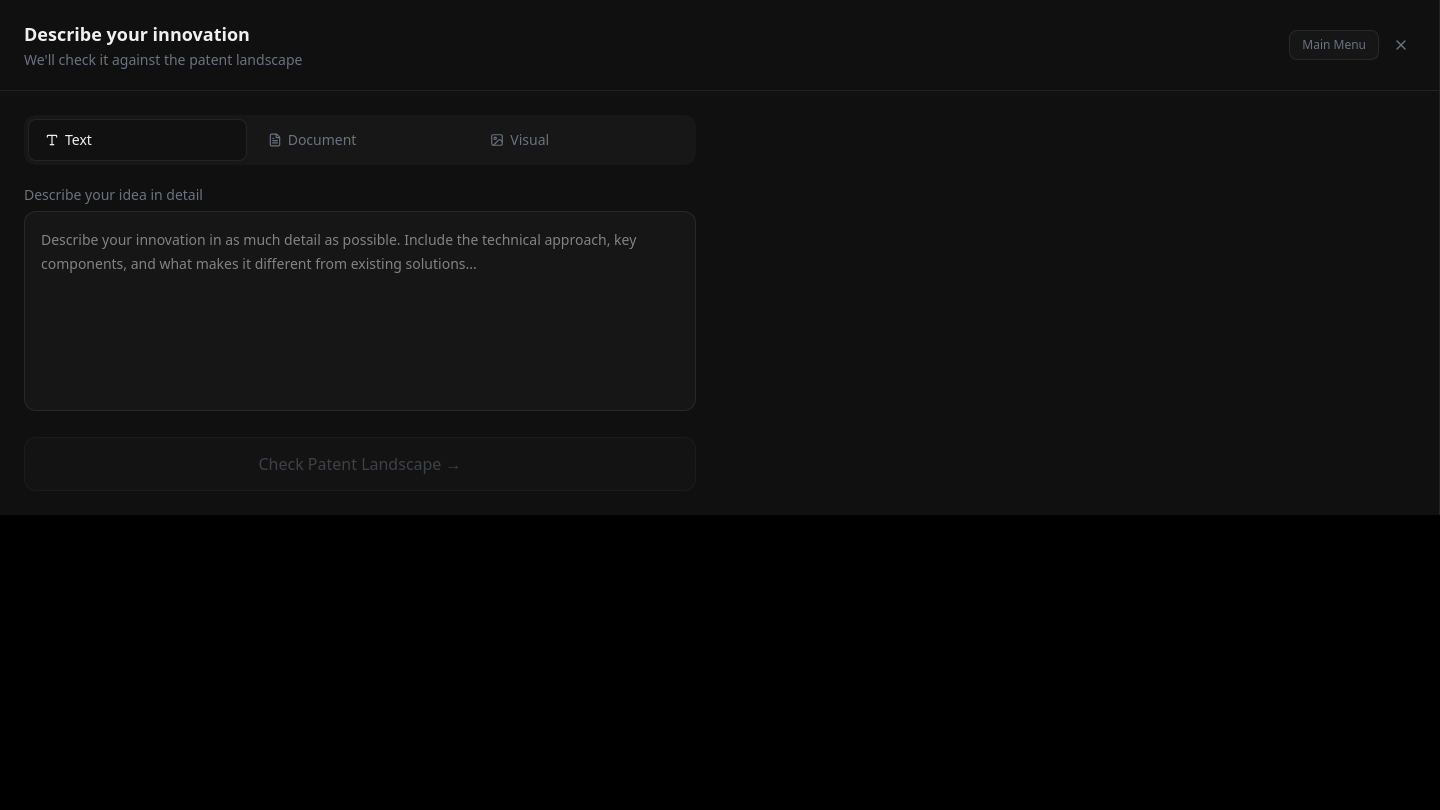
Scenario: IdeaInputPanel › switches to visual tab and shows upload zone
The width and height of the screenshot is (1440, 810).
Click the button "Visual".
click(583, 140)  # box [473, 119, 692, 161]
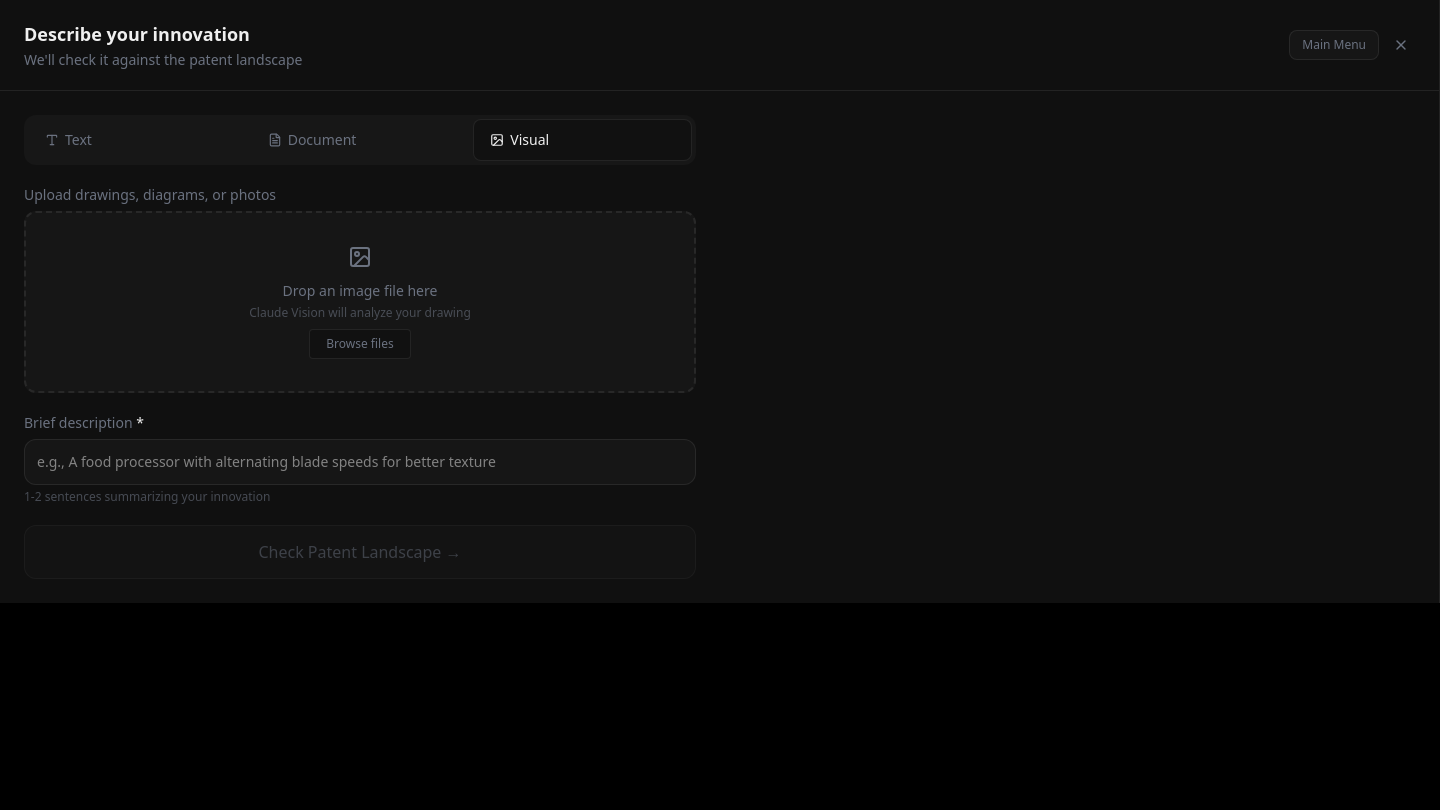
Expected: the text "Upload drawings, diagrams, or photos" is shown, [24, 185, 276, 204]
Expected: the text "Claude Vision will analyze your drawing" is shown, [249, 305, 471, 321]
